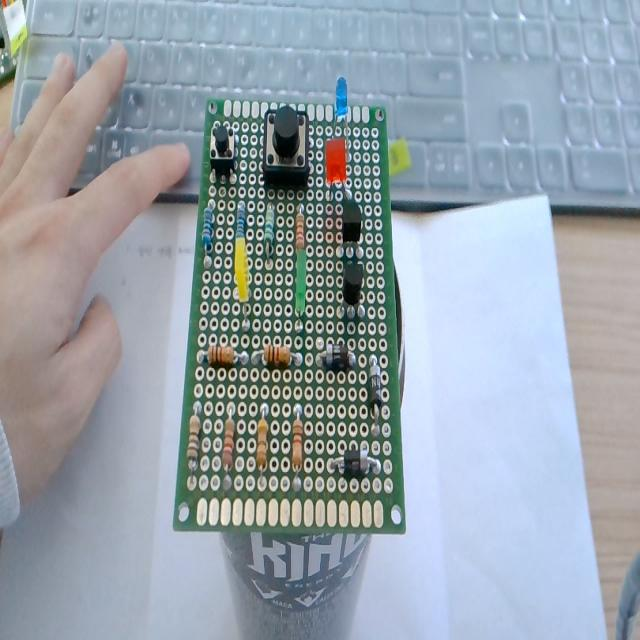diode: (330, 443, 382, 478), (313, 340, 359, 369), (368, 356, 384, 430)
led: (228, 236, 257, 328), (318, 134, 352, 206), (294, 250, 314, 333), (332, 71, 350, 161)
resistor: (185, 400, 205, 484), (200, 334, 244, 372), (250, 408, 270, 491), (216, 409, 237, 485), (252, 343, 298, 373), (201, 195, 218, 262), (291, 404, 305, 484), (290, 200, 310, 254), (262, 198, 278, 260), (235, 198, 247, 244)
switch: (259, 105, 315, 198), (208, 122, 240, 176)
transistor: (336, 258, 368, 322), (338, 198, 366, 264)
